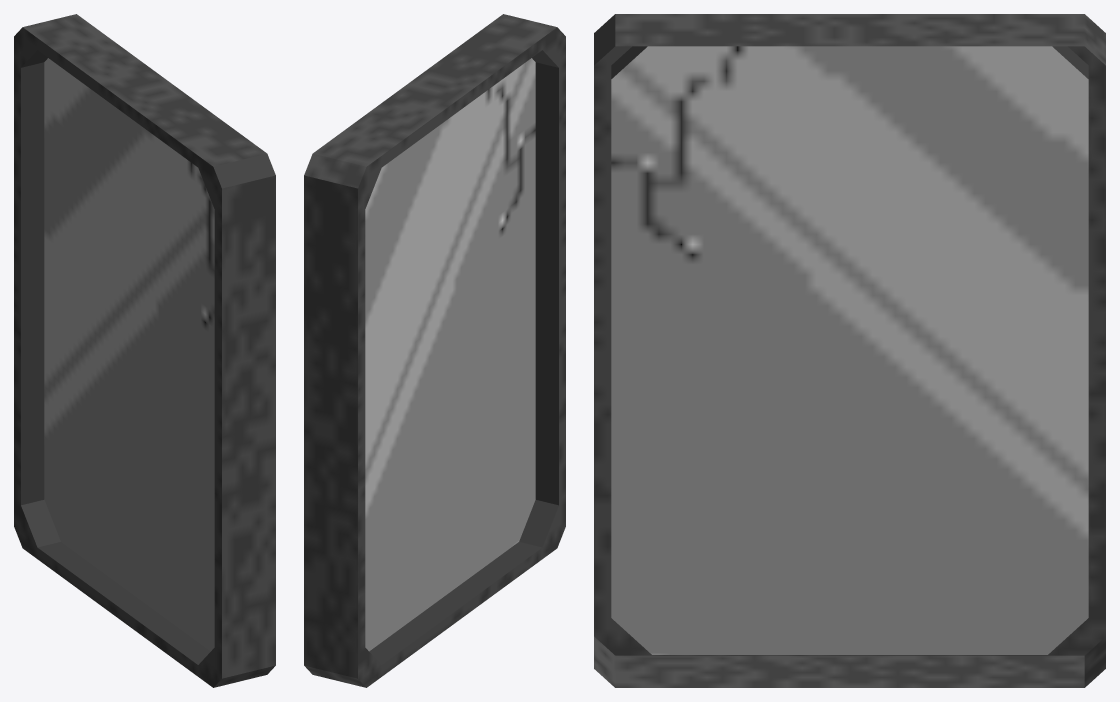
Rendered from mirror.fbx.
The picture shows the model from 3 angles, left to right: view 1: azimuth 30°, elevation 25°; view 2: azimuth 150°, elevation 25°; view 3: azimuth 270°, elevation 25°; orthographic projection. The views are drawn at different scales.
Visible parts, largest first — view 1: Cube; view 2: Cube; view 3: Cube.
Part boxes in pixels (box(x1,y1,x2,y2)): Cube: box(14, 14, 275, 687); Cube: box(304, 14, 565, 687); Cube: box(594, 14, 1105, 687).
Bounding box in the file's own units: 365 × 54.92 × 505.
